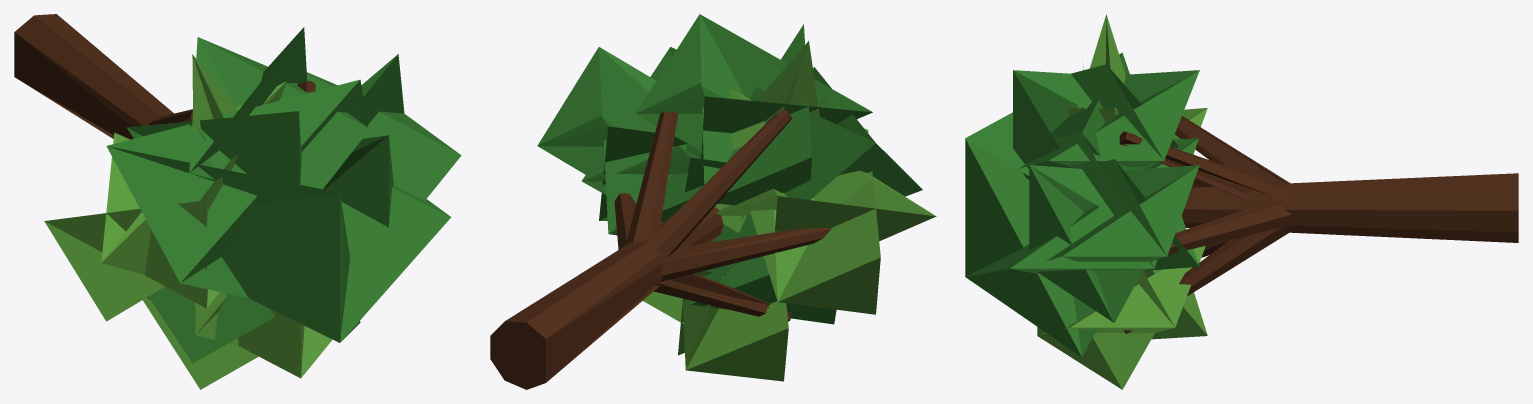
File: oak_lowpoly.obj
The picture shows the model from 3 angles, left to right: view 1: azimuth 30°, elevation 25°; view 2: azimuth 150°, elevation 25°; view 3: azimuth 270°, elevation 25°; orthographic projection. The views are drawn at different scales.
Parts seen in each view (by area): view 1: Oak; view 2: Oak; view 3: Oak.
Part boxes in pixels (bbox=[...]): Oak: bbox=[14, 14, 461, 389]; Oak: bbox=[490, 14, 936, 389]; Oak: bbox=[965, 14, 1518, 389].
Bounding box in the file's own units: 2.34 × 2.18 × 3.42.
